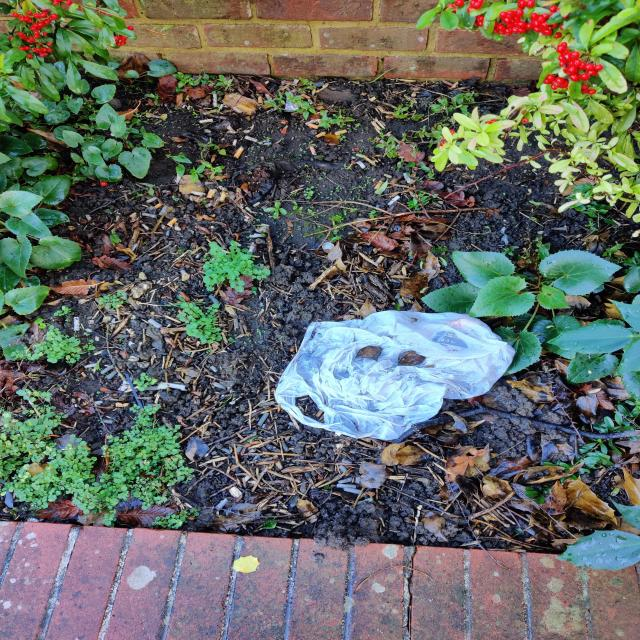litter: (269, 306, 526, 445)
